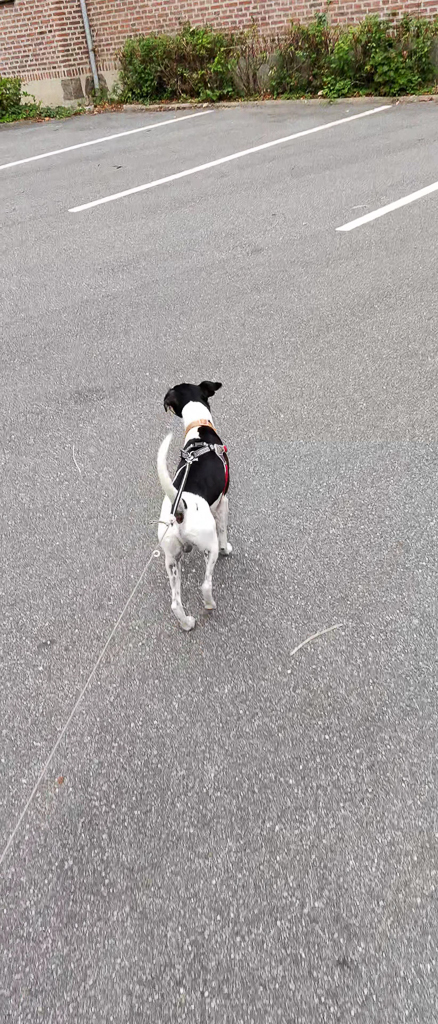Dog: (134, 363, 266, 651)
